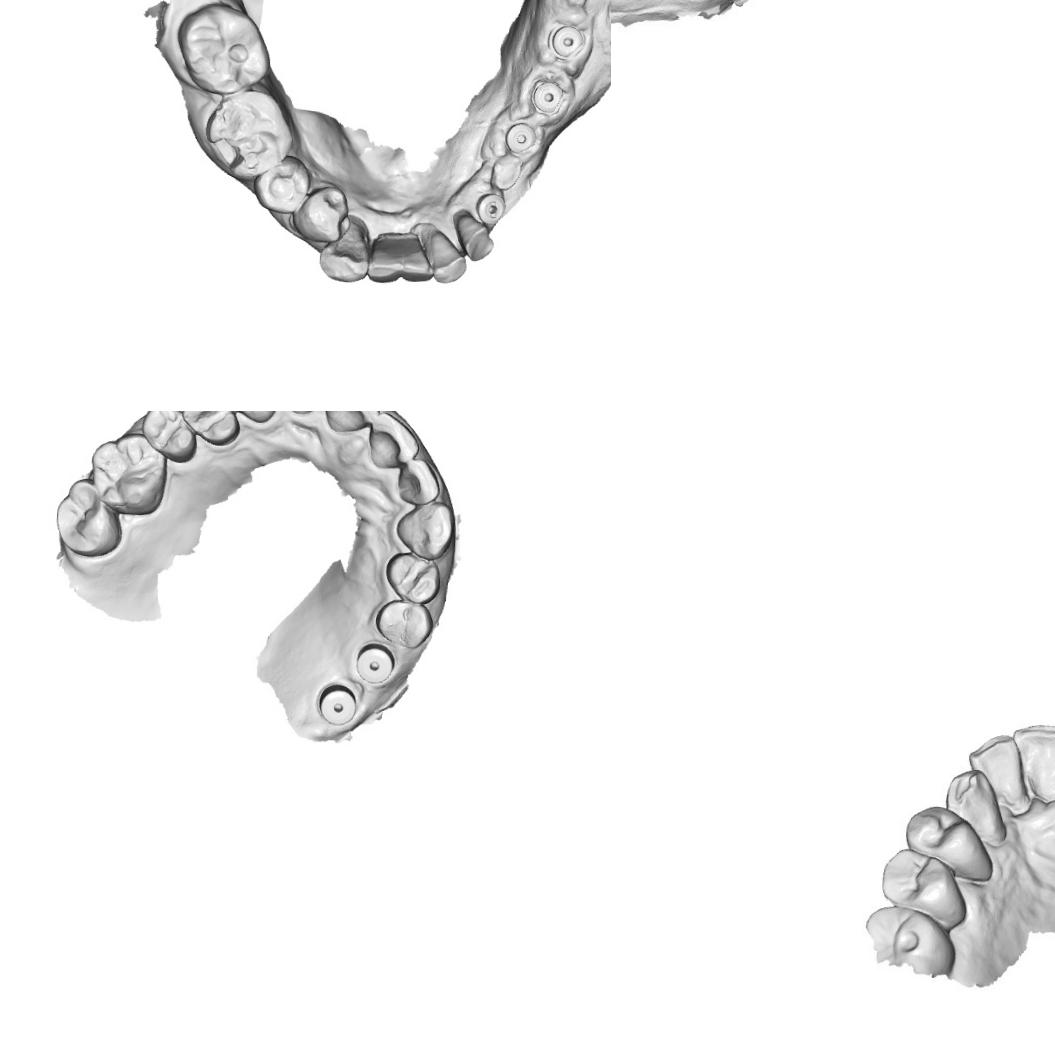canine: (942, 768, 1014, 848), (316, 213, 371, 284), (392, 498, 454, 560), (220, 411, 282, 426)
implant: (352, 640, 397, 686), (315, 681, 358, 726), (545, 22, 586, 60), (527, 77, 565, 115), (500, 120, 538, 153)
implant_minus: (470, 190, 508, 226)
incisor: (968, 734, 1032, 809), (365, 411, 420, 470), (1017, 722, 1055, 803), (448, 211, 498, 264), (426, 230, 467, 284), (396, 457, 442, 505), (365, 232, 402, 284), (398, 233, 435, 285), (321, 411, 379, 433)
molar: (173, 0, 274, 96), (202, 87, 294, 181), (85, 429, 171, 514), (52, 476, 123, 560)
premolar: (879, 850, 964, 924), (903, 803, 984, 880), (249, 152, 312, 216), (289, 182, 349, 244), (382, 550, 442, 604), (374, 598, 435, 650), (138, 411, 198, 463), (179, 411, 240, 447)
